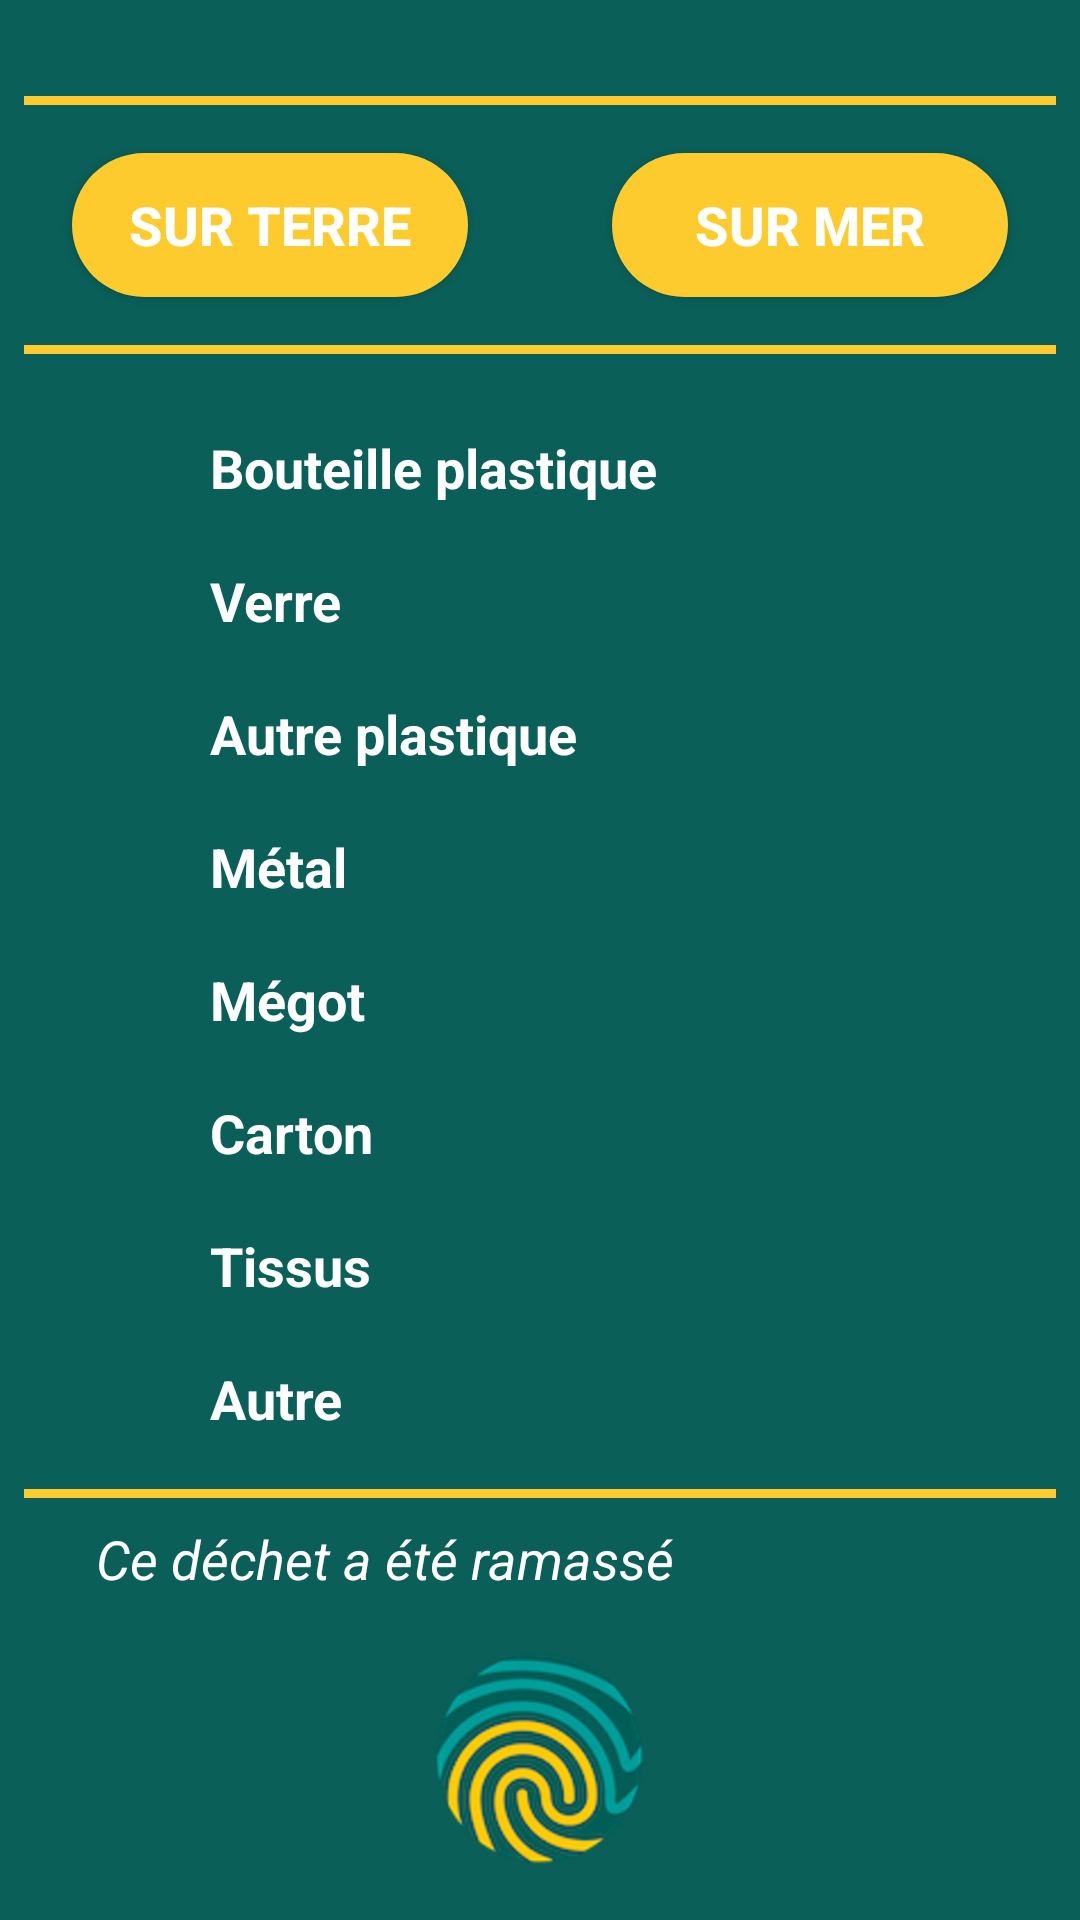

Screen size 1080 x 1920. Icon name, then its box in pixels as (x1, y1, x2, y2):
empreinte: (437, 1660, 642, 1863)
